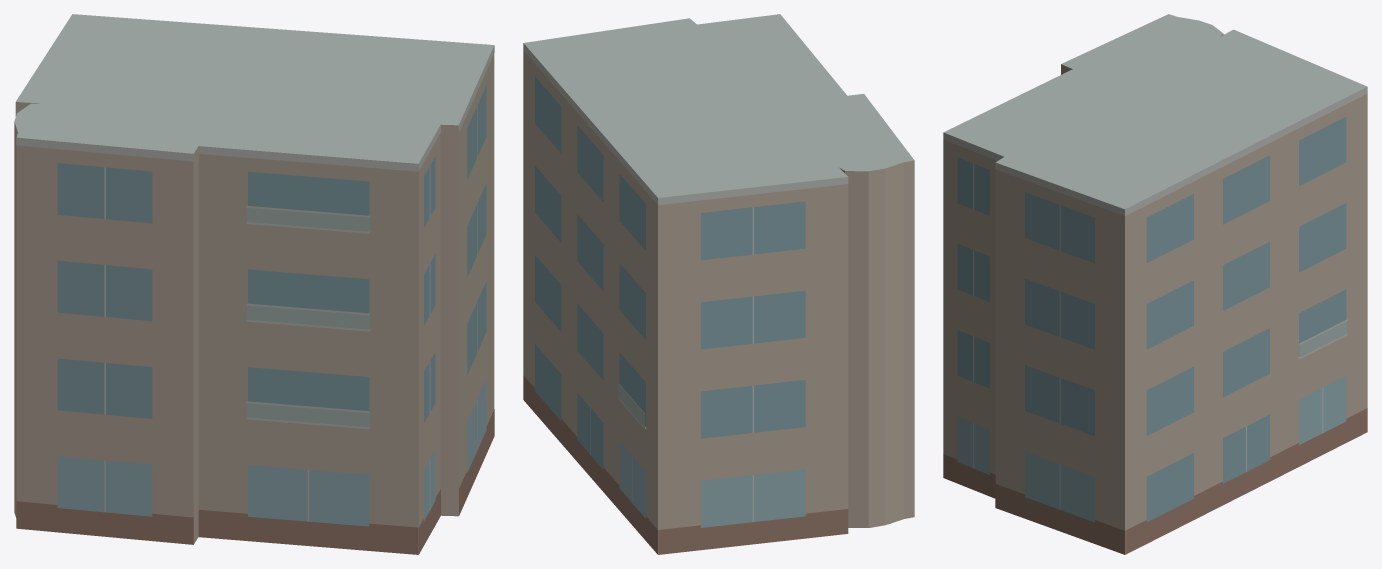
The model's file is survey-upis-32954042.glb.
The picture shows the model from 3 angles, left to right: view 1: azimuth 30°, elevation 25°; view 2: azimuth 150°, elevation 25°; view 3: azimuth 270°, elevation 25°; orthographic projection. The views are drawn at different scales.
Parts seen in each view (by area): view 1: survey-upis-32954042.tmp; view 2: survey-upis-32954042.tmp; view 3: survey-upis-32954042.tmp.
Part boxes in pixels (bbox=[...]): survey-upis-32954042.tmp: bbox=[14, 14, 494, 554]; survey-upis-32954042.tmp: bbox=[523, 14, 914, 554]; survey-upis-32954042.tmp: bbox=[943, 14, 1367, 554].
Bounding box in the file's own units: 14.81 × 12.2 × 13.59.
